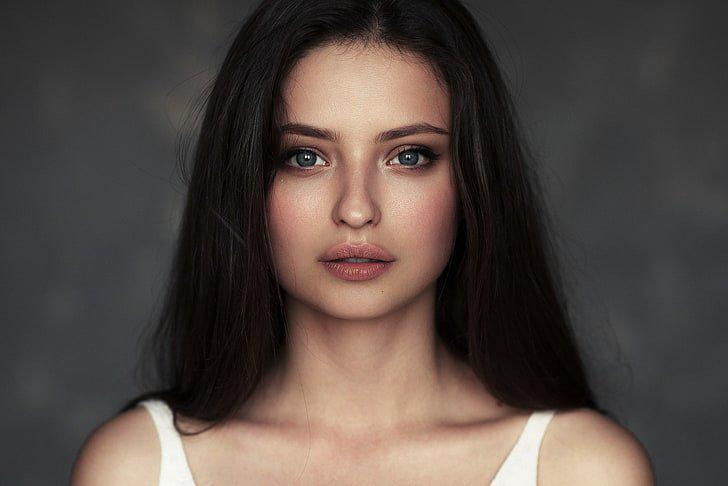Sober: (274, 66, 450, 300)
